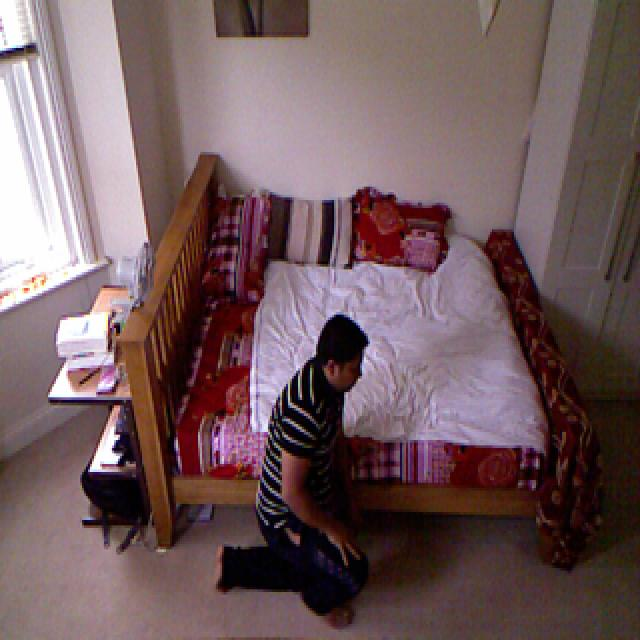crawling: (214, 318, 372, 622)
